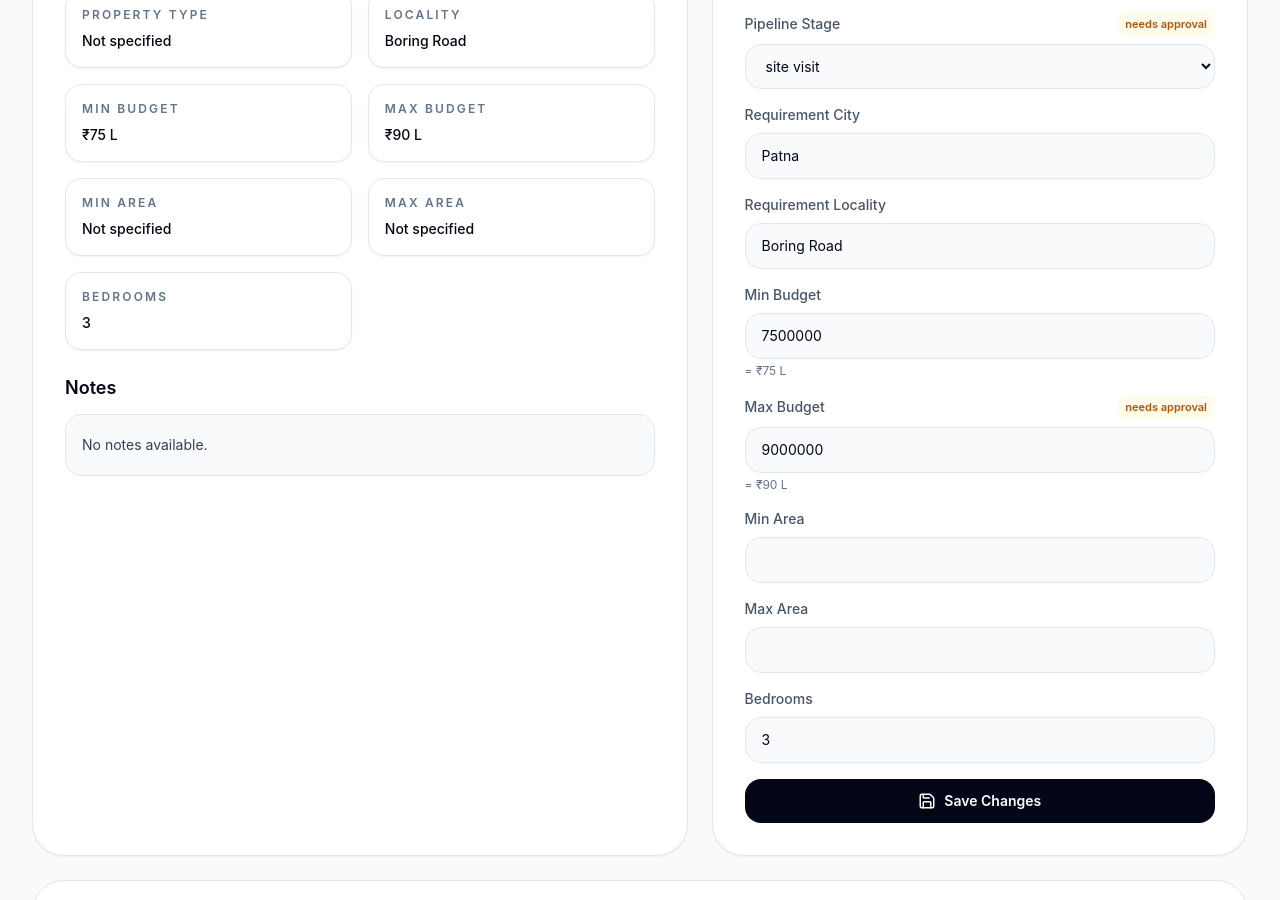
Test: client edit form › budgets read as ₹ L/Cr on the profile and beside the rupee inputs
(page scrolled)
Expected: the text "₹90 L" is shown, [385,126,422,143]
Expected: the text "₹75 L" is shown, [82,126,118,143]
// Live hint under the input while typing in rupees.
Replace the text in the number field showing "9000000" with "12500000" at (980, 450), box [745,427,1215,473]
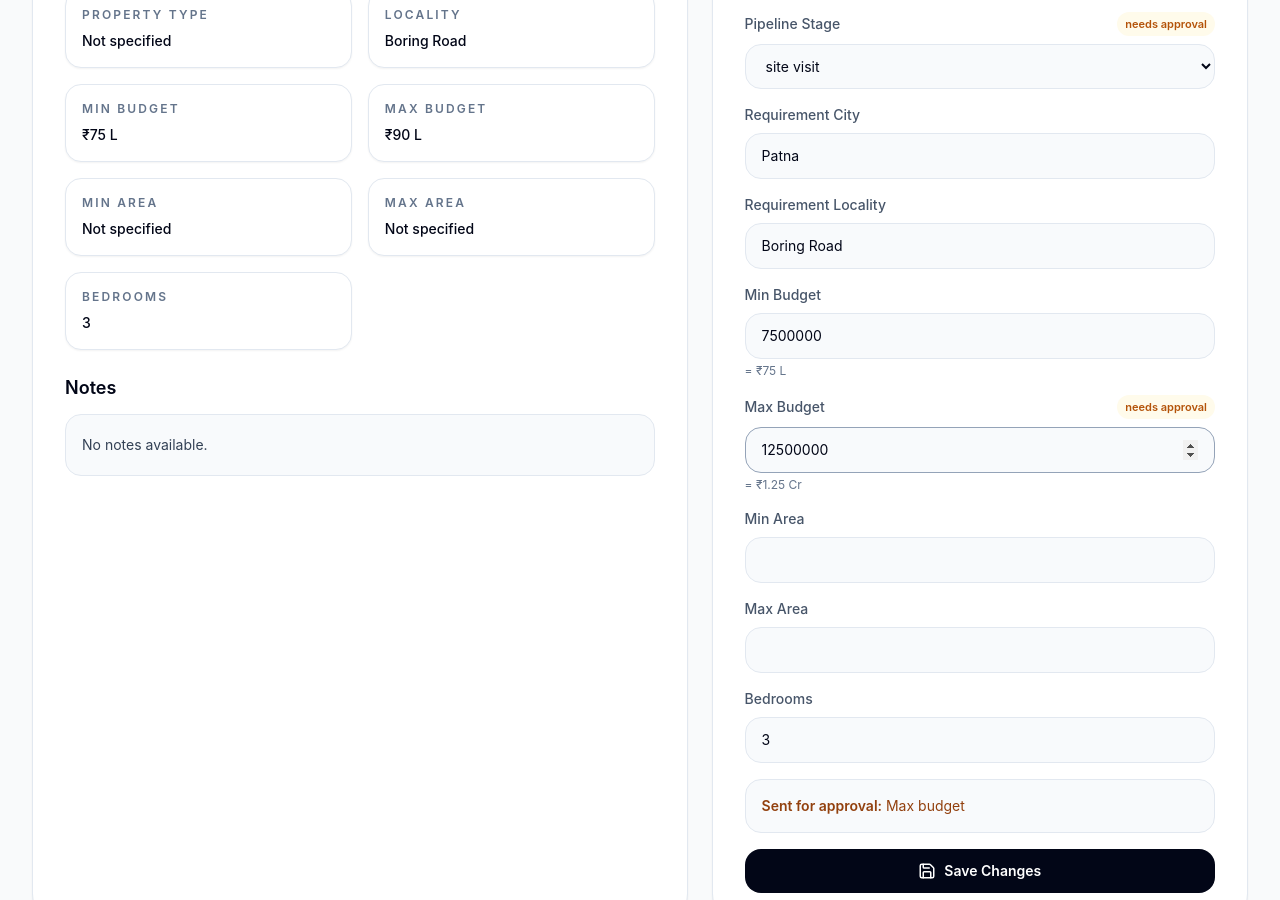
Now the text "= ₹1.25 Cr" is shown, box [745,477,802,492]
